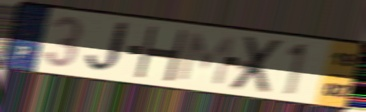1: (283, 43, 310, 98)
3: (42, 14, 85, 71)
H: (132, 24, 190, 84)
J: (83, 20, 136, 75)
M: (174, 30, 237, 88)
X: (227, 35, 288, 95)
